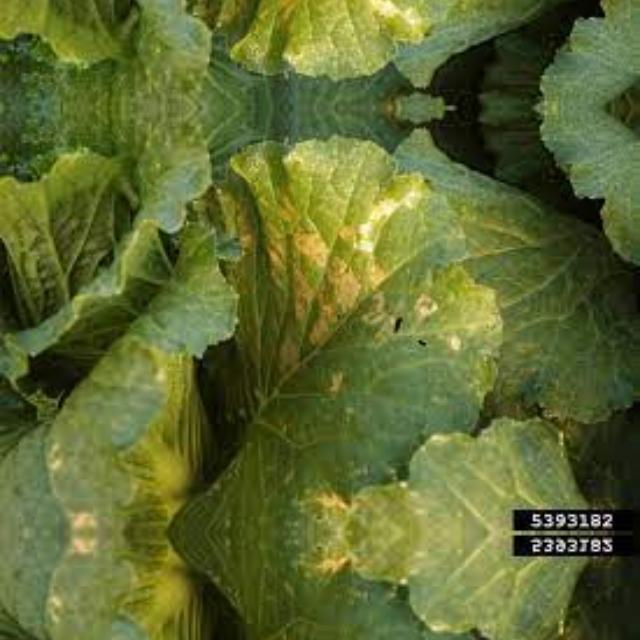Lettuce - Anthracnose: (172, 140, 502, 532), (1, 223, 236, 533), (172, 533, 502, 640), (333, 418, 582, 532), (333, 532, 582, 640), (0, 533, 235, 640), (172, 0, 502, 74)
